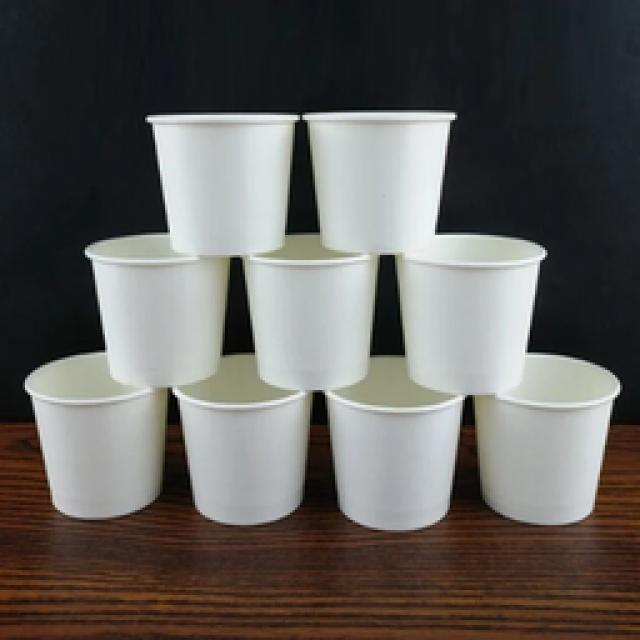paper_cups: (471, 352, 619, 527), (173, 345, 314, 527), (324, 354, 468, 528), (395, 230, 546, 394), (142, 110, 301, 264), (86, 232, 235, 394), (26, 356, 172, 518), (299, 112, 455, 255)
